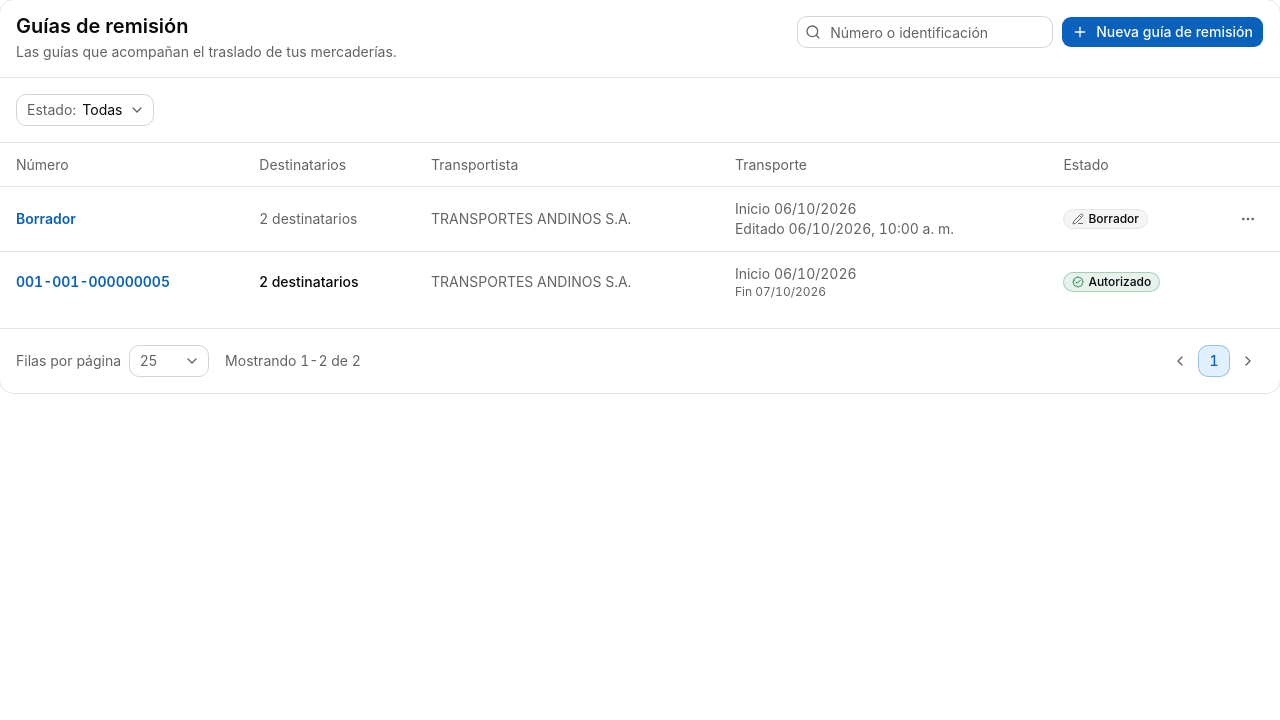
Test case: pantalla Guías de remisión › muestra los borradores primero, con su estado, y los elimina desde su fila
The image size is (1280, 720).
Expected: the link "Borrador" is shown, [16,210,76,227]
Expected: the text "2 destinatarios" in the row of "Editado" is shown, [259,210,358,227]
Click the button named "Acciones del borrador: Guía con TRANSPORTES ANDINOS S.A.": (1248, 219) [1232,203,1264,235]
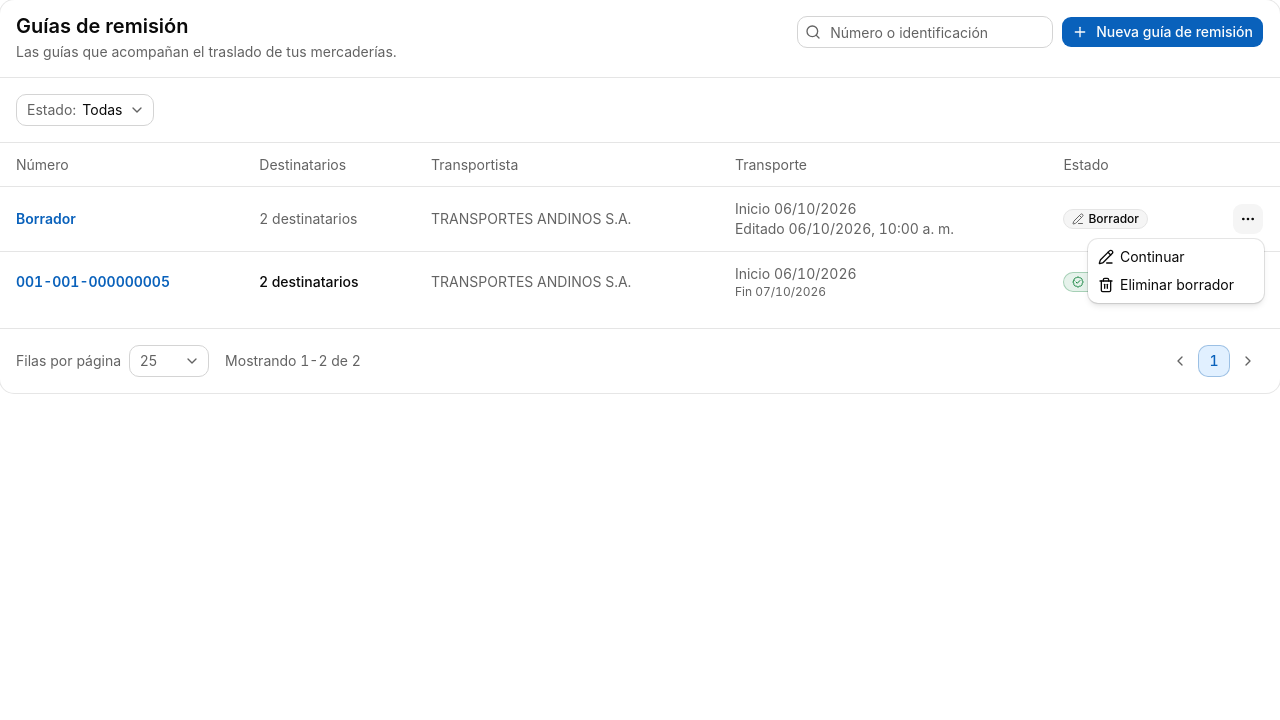
Click the menu item "Eliminar borrador": (1166, 284) [1098,276,1234,293]
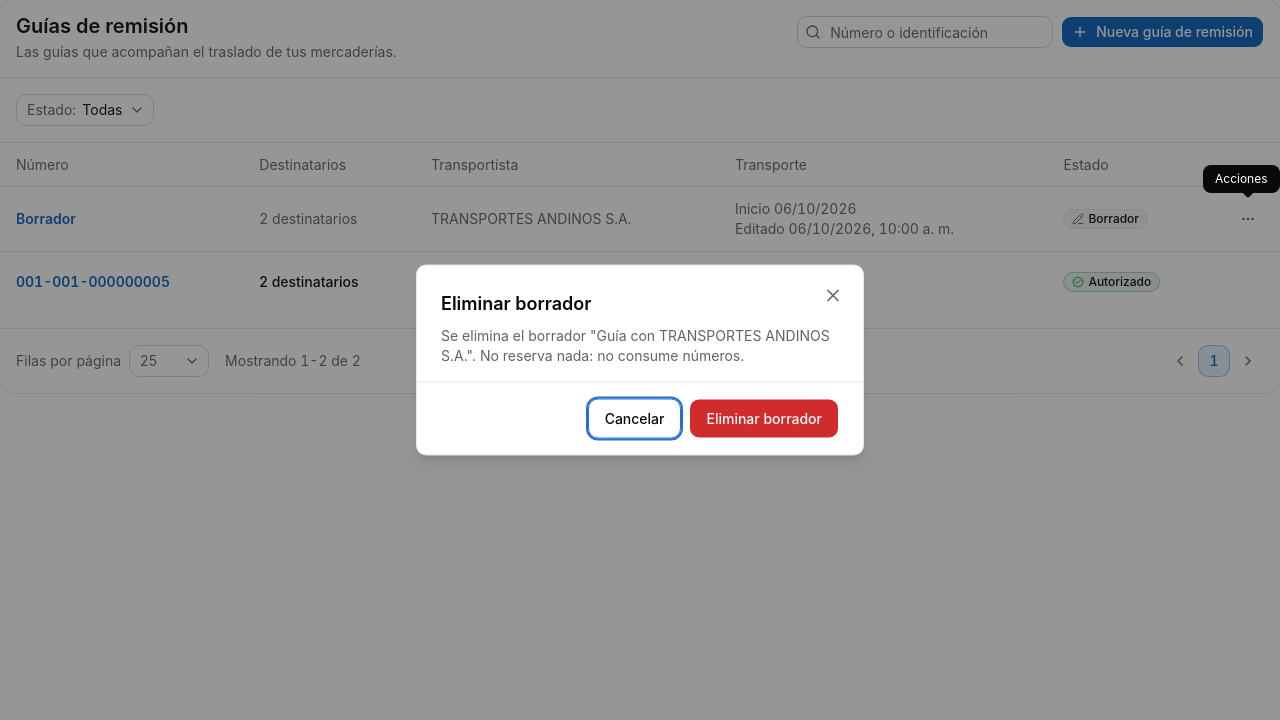
Click the button "Eliminar borrador": (764, 418) [690,398,839,438]
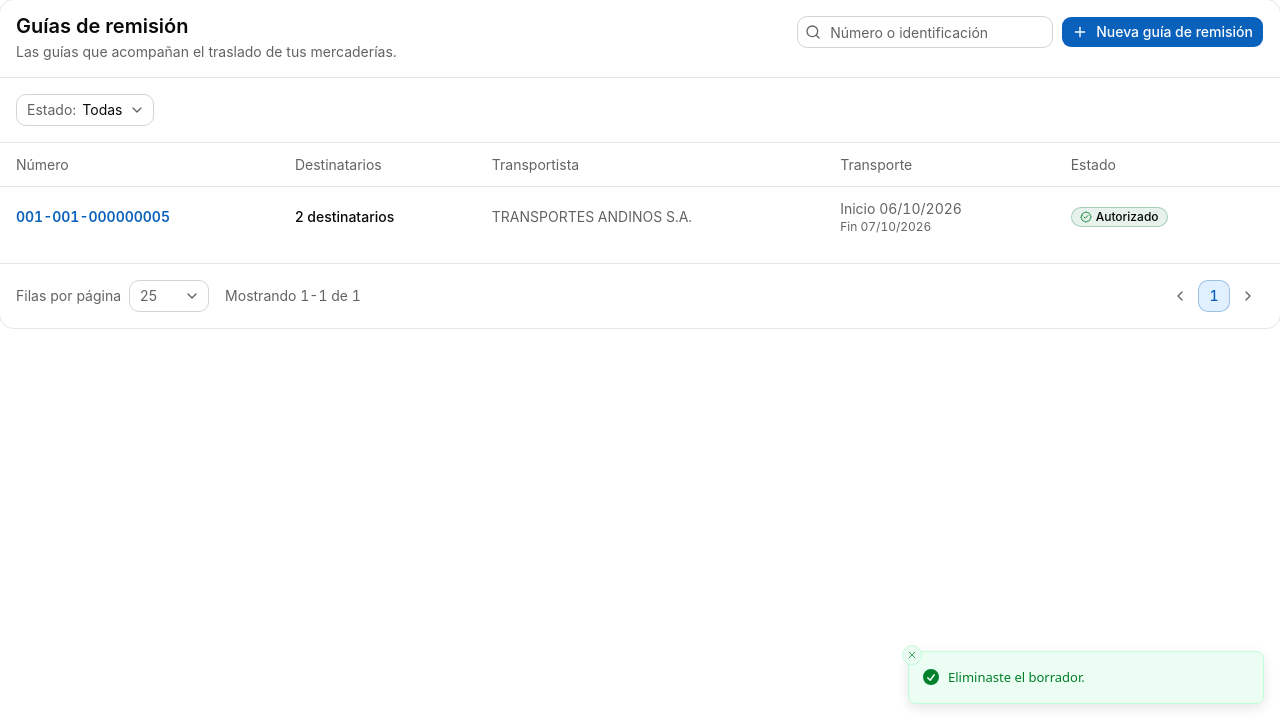
Result: the text "Eliminaste el borrador." is shown at [948,668,1085,687]
